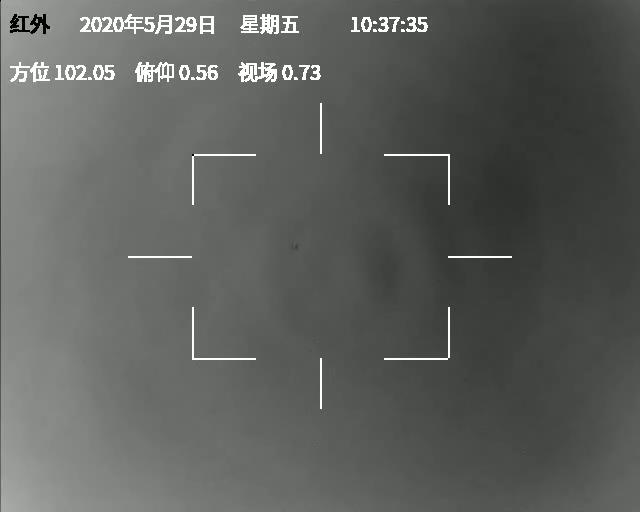uav: (291, 242, 300, 251)
